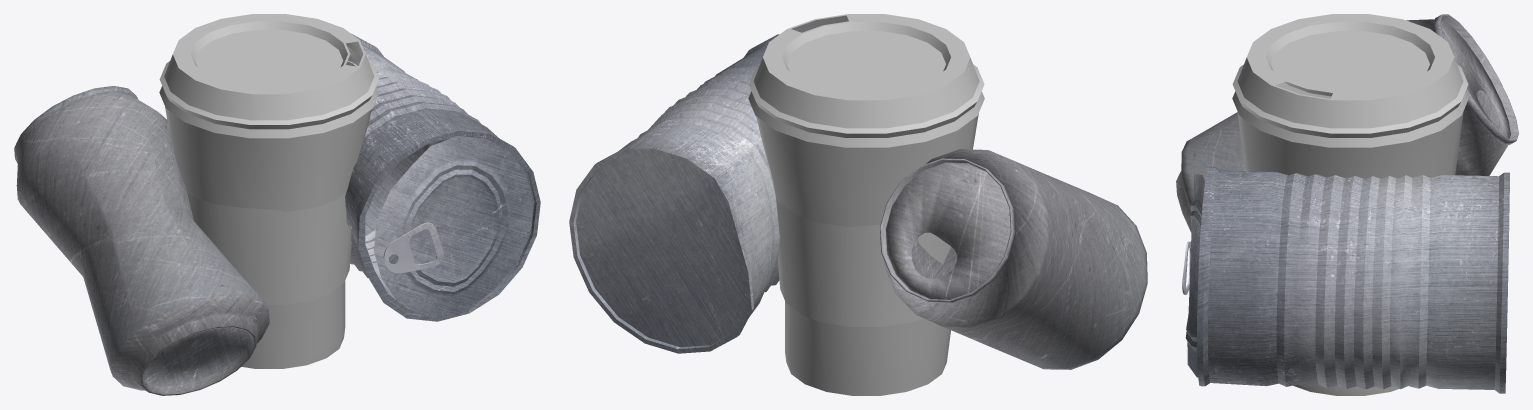
3 views of the same model, side by side, from view 1: azimuth 30°, elevation 25°; view 2: azimuth 150°, elevation 25°; view 3: azimuth 270°, elevation 25° (orthographic). The views are drawn at different scales.
Visible parts, largest first — view 1: coffee cup.002, cola can.001 lowpoly.001, can.002; view 2: coffee cup.002, can.002, cola can.001 lowpoly.001; view 3: can.002, coffee cup.002, cola can.001 lowpoly.001.
Boxes of the visible parts, x1,y1,x2,y2 form: coffee cup.002: (159, 14, 379, 368); cola can.001 lowpoly.001: (14, 86, 269, 395); can.002: (345, 34, 540, 321); coffee cup.002: (748, 14, 984, 395); can.002: (569, 34, 779, 353); cola can.001 lowpoly.001: (880, 149, 1147, 369); can.002: (1182, 166, 1509, 393); coffee cup.002: (1232, 14, 1468, 395); cola can.001 lowpoly.001: (1176, 14, 1518, 232).
Bounding box in the file's own units: 149 × 98.55 × 100.
